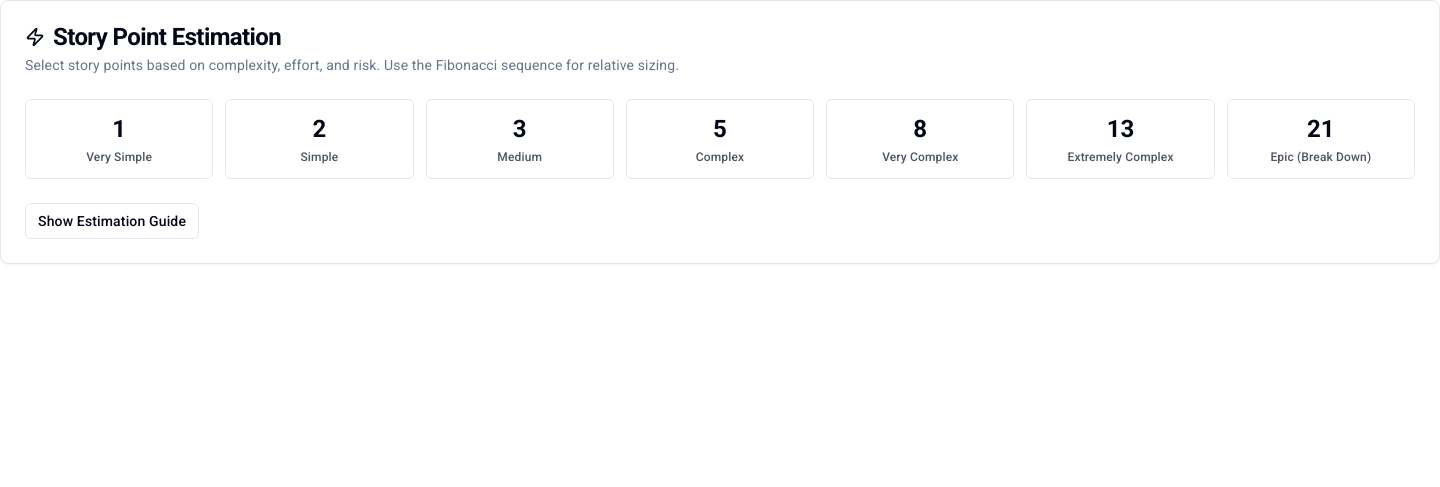
StoryPointEstimator › shows examples for selected point
The image size is (1440, 487).
Click the button "2 Simple".
click(319, 139)  # box [225, 99, 414, 179]
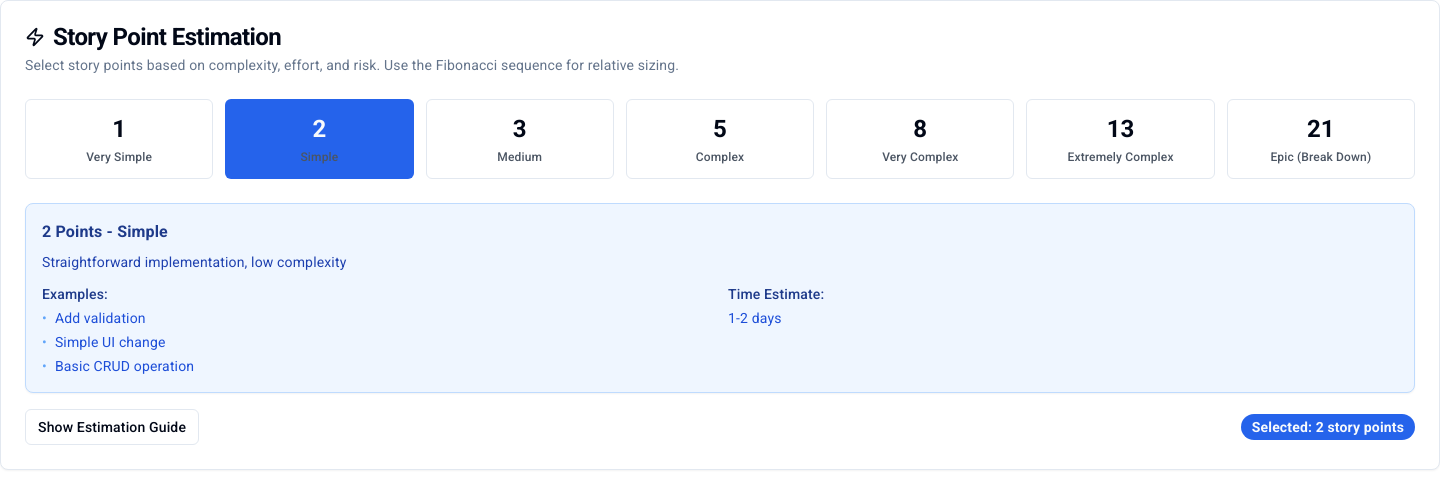
Expected: the heading "Examples:" is shown, [42, 286, 108, 302]
Expected: the list item "Add validation" is shown, [55, 310, 146, 326]
Expected: the list item "Simple UI change" is shown, [55, 334, 166, 350]
